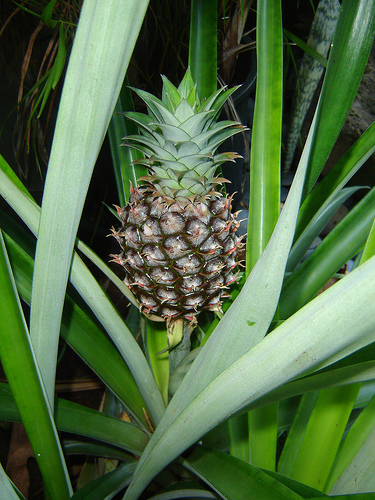pineapple: (107, 62, 251, 326)
